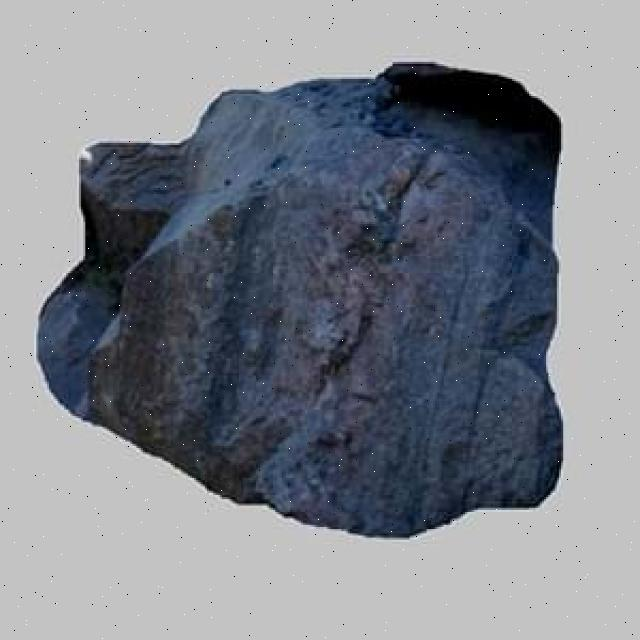Igneous: (40, 56, 589, 570)
